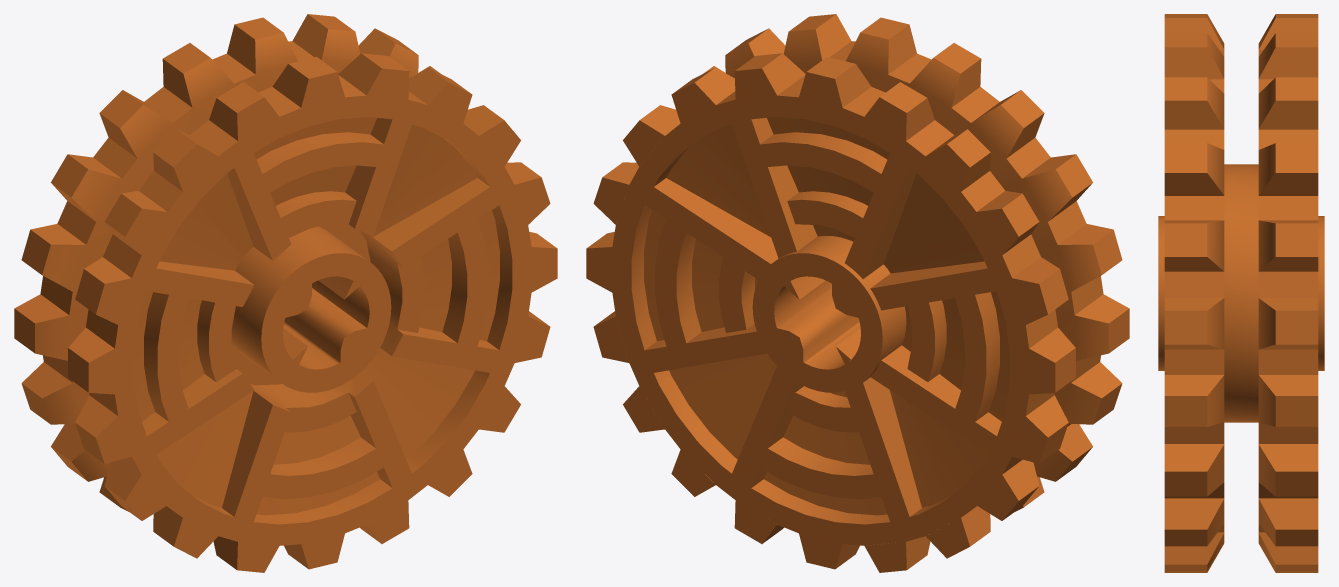
The model's file is obstacle.dae.
3 renders of one model, left to right at view 1: azimuth 30°, elevation 25°; view 2: azimuth 150°, elevation 25°; view 3: azimuth 270°, elevation 25°, orthographic. The views are drawn at different scales.
Parts seen in each view (by area): view 1: Inner-Node-obstacle_dot_io-0; view 2: Inner-Node-obstacle_dot_io-0; view 3: Inner-Node-obstacle_dot_io-0.
Boxes of the visible parts, x1,y1,x2,y2 form: Inner-Node-obstacle_dot_io-0: (14, 14, 557, 572); Inner-Node-obstacle_dot_io-0: (586, 14, 1129, 572); Inner-Node-obstacle_dot_io-0: (1158, 14, 1324, 572).
Bounding box in the file's own units: 64.63 × 64.63 × 19.25.
